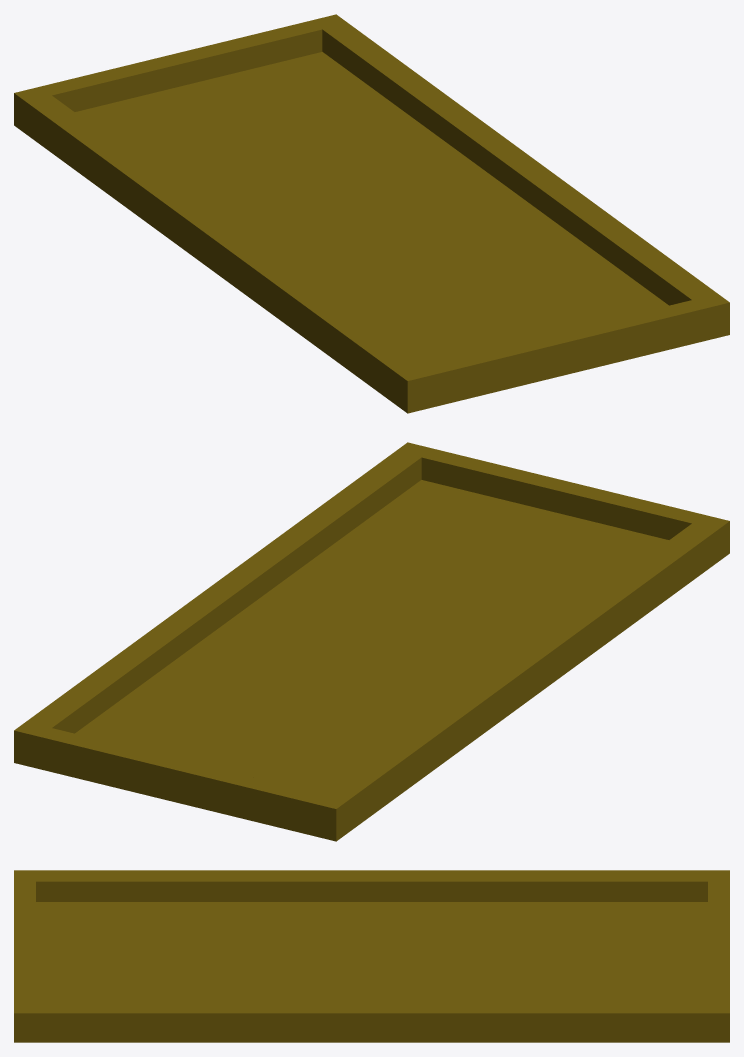
File: faceGround.fbx
3 views of the same model, one above another, from view 1: azimuth 30°, elevation 25°; view 2: azimuth 150°, elevation 25°; view 3: azimuth 270°, elevation 25° (orthographic). The views are drawn at different scales.
Parts seen in each view (by area): view 1: pCube1; view 2: pCube1; view 3: pCube1.
Part boxes in pixels (left/top/right/bottom): pCube1: left=14, top=14, right=729, bottom=413; pCube1: left=14, top=442, right=729, bottom=841; pCube1: left=14, top=870, right=729, bottom=1042.
Bounding box in the file's own units: 0.52 × 0.05 × 1.1.
1 material, 1 textured.
